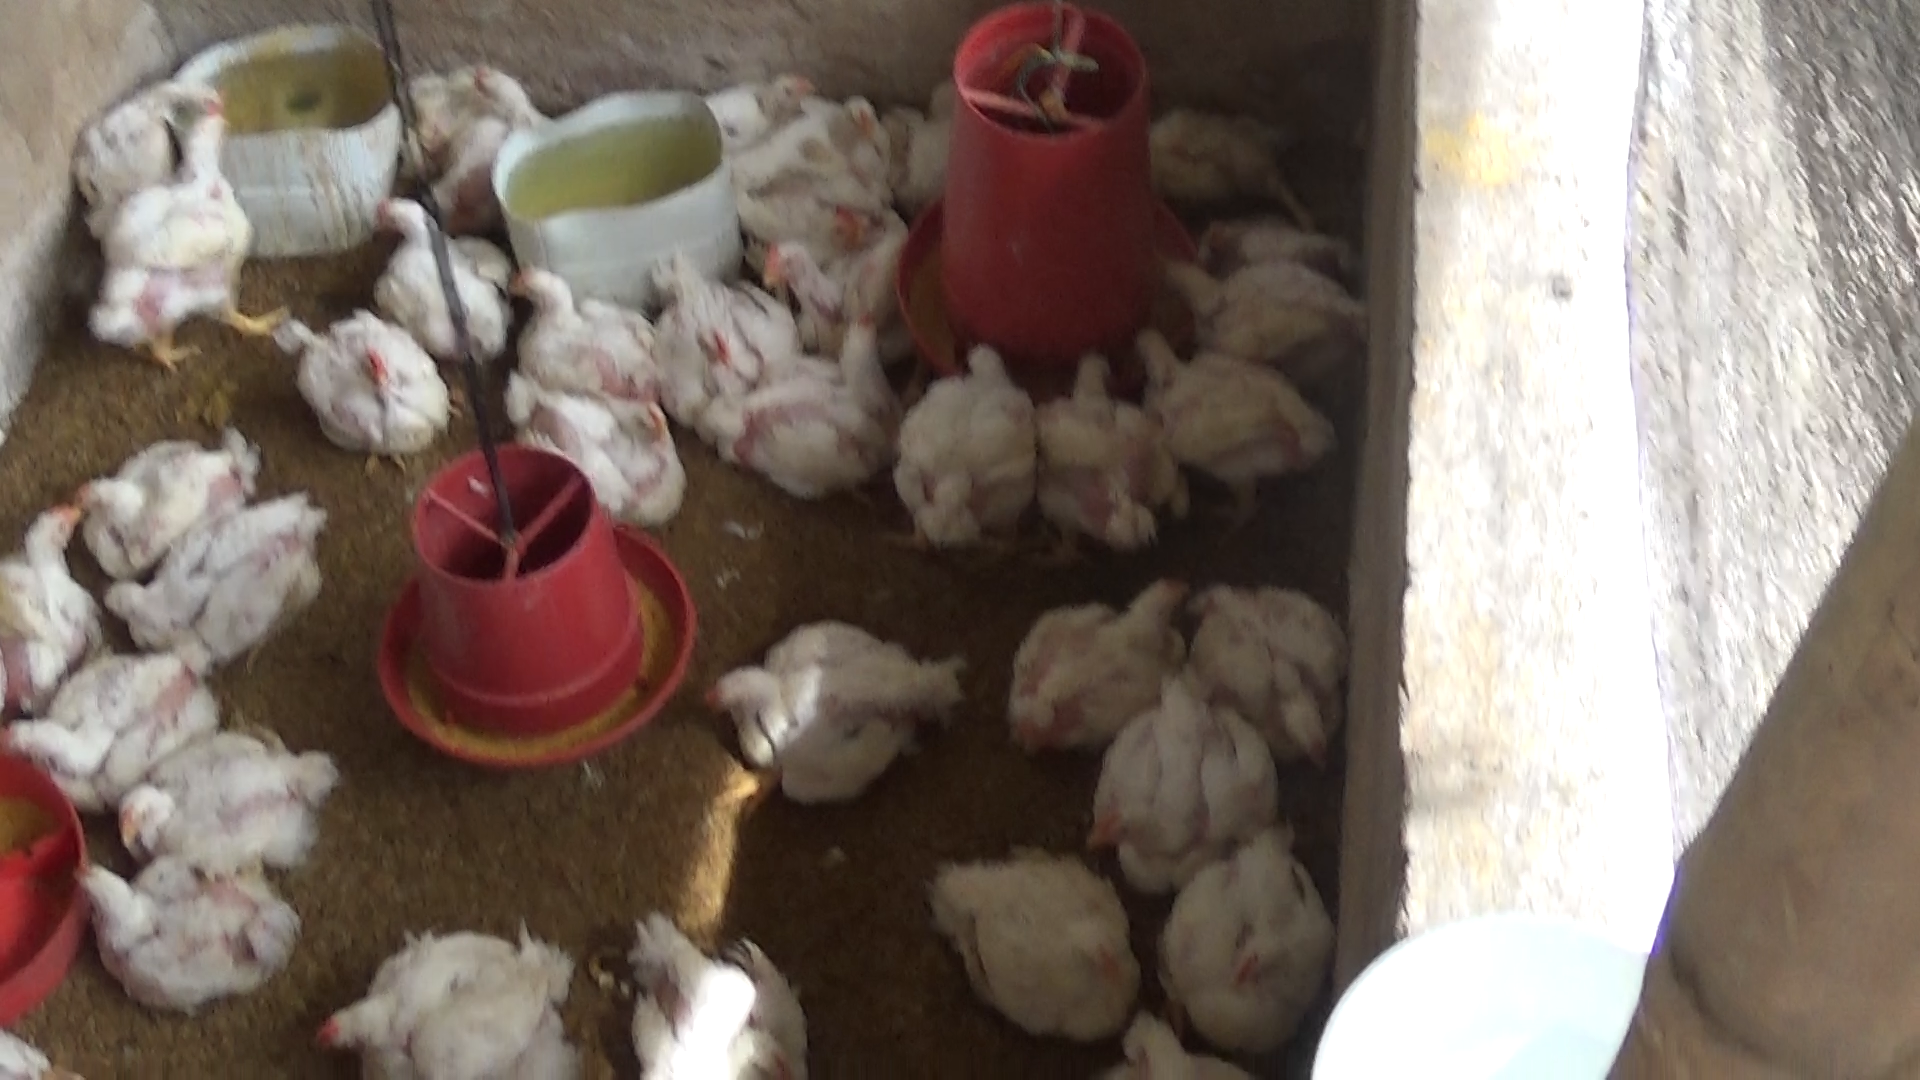Pollos: (94, 102, 284, 377), (694, 615, 960, 803), (309, 911, 596, 1080), (596, 882, 822, 1080), (1130, 318, 1335, 517), (57, 852, 305, 1013), (113, 735, 351, 902), (1096, 676, 1276, 893), (924, 855, 1137, 1038), (702, 306, 907, 487), (887, 338, 1042, 572), (1160, 833, 1338, 1036), (7, 659, 227, 816), (100, 517, 326, 667), (1007, 578, 1187, 764), (272, 307, 454, 488), (502, 352, 682, 529), (1191, 578, 1357, 760), (50, 51, 227, 214), (1033, 349, 1176, 541), (496, 251, 671, 404), (73, 422, 265, 556), (1146, 247, 1375, 352), (363, 178, 501, 348), (0, 497, 100, 703), (407, 42, 537, 200), (753, 222, 916, 336), (1135, 103, 1286, 208), (791, 74, 909, 178), (716, 65, 816, 156)
